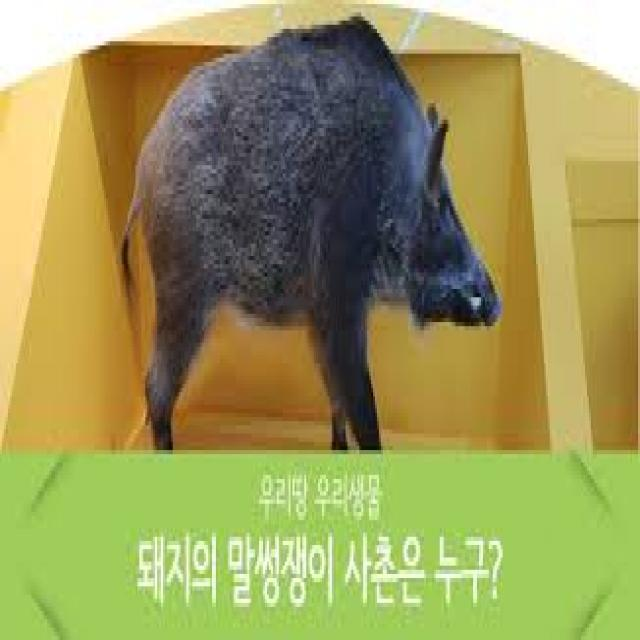boar: (94, 0, 516, 516)
